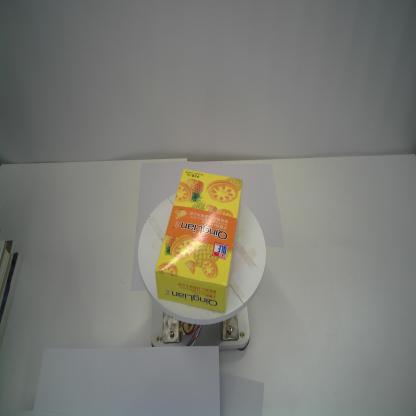Dessert: (153, 166, 244, 316)
